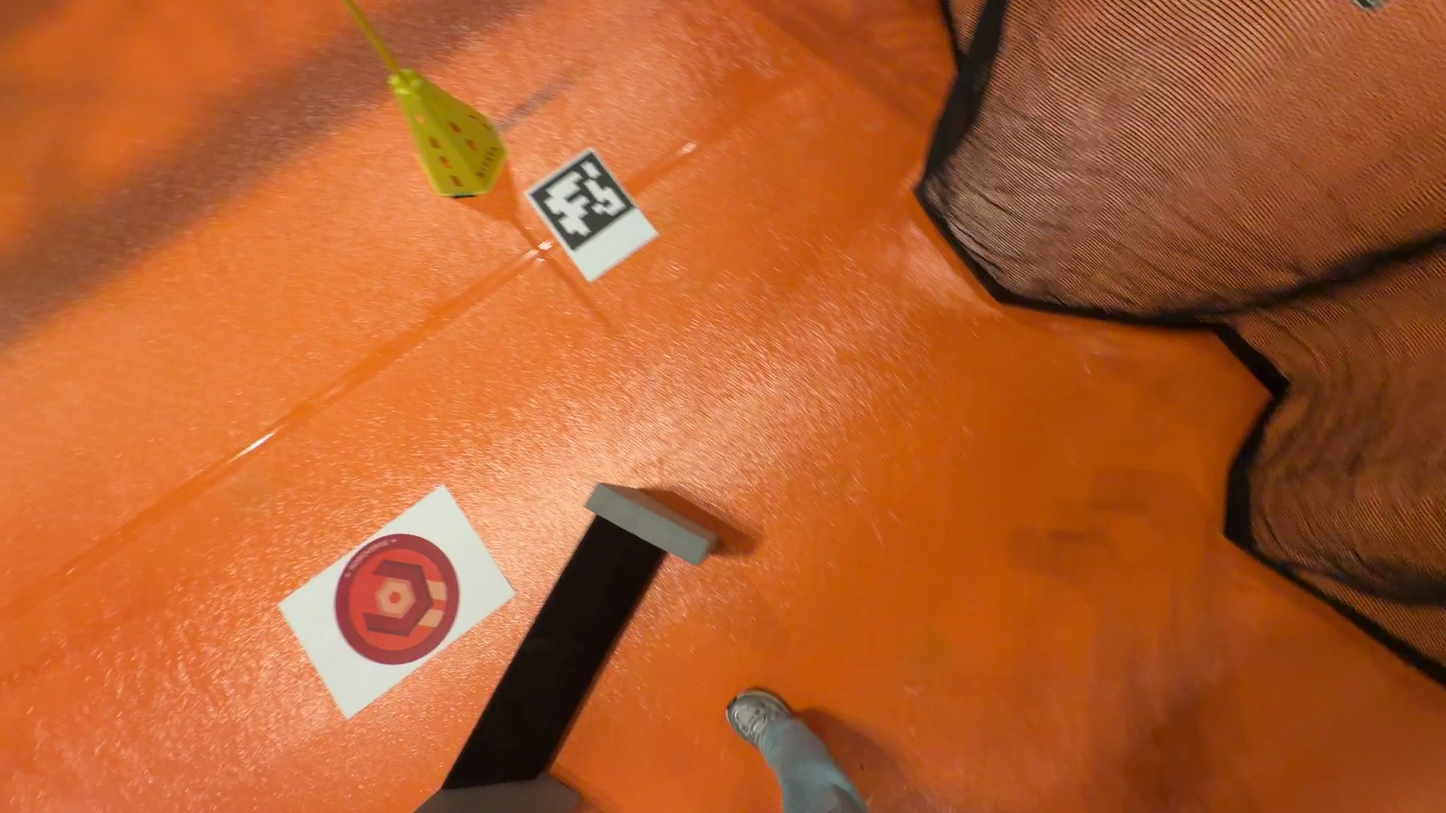landing_pad: (335, 533, 463, 665)
